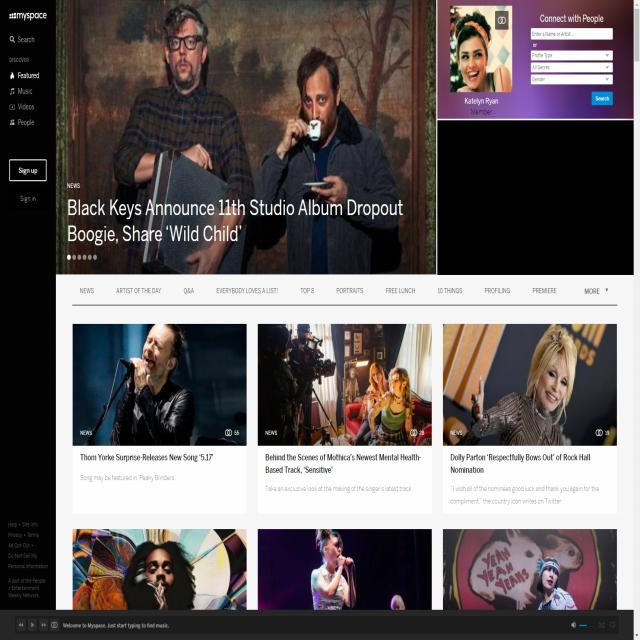control-bar: (1, 612, 633, 640)
menu-panel: (70, 276, 623, 308)
